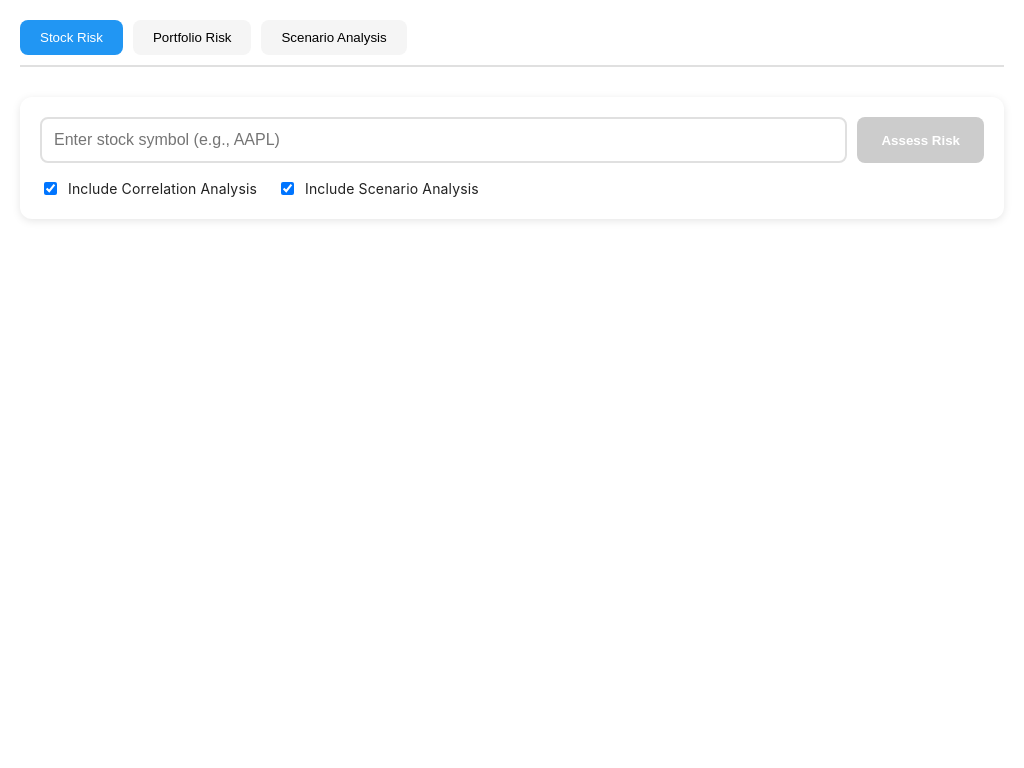
Scenario: RiskAssessment Component › Portfolio Risk Assessment Mode › should perform portfolio risk assessment
The width and height of the screenshot is (1024, 768).
Click the button "Portfolio Risk".
click(192, 38)  # box [133,20,252,55]
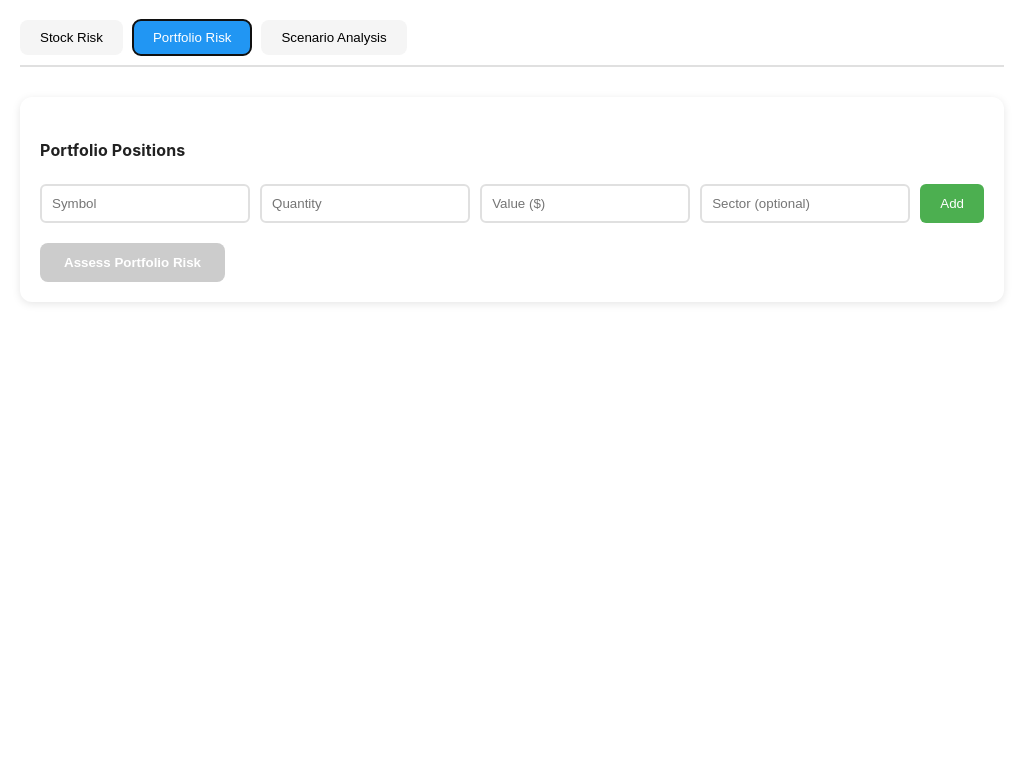
Note: Add positions
Type "AAPL" into the field with placeholder "Symbol".
click(145, 203); type("AAPL")  # box [40,184,250,222]
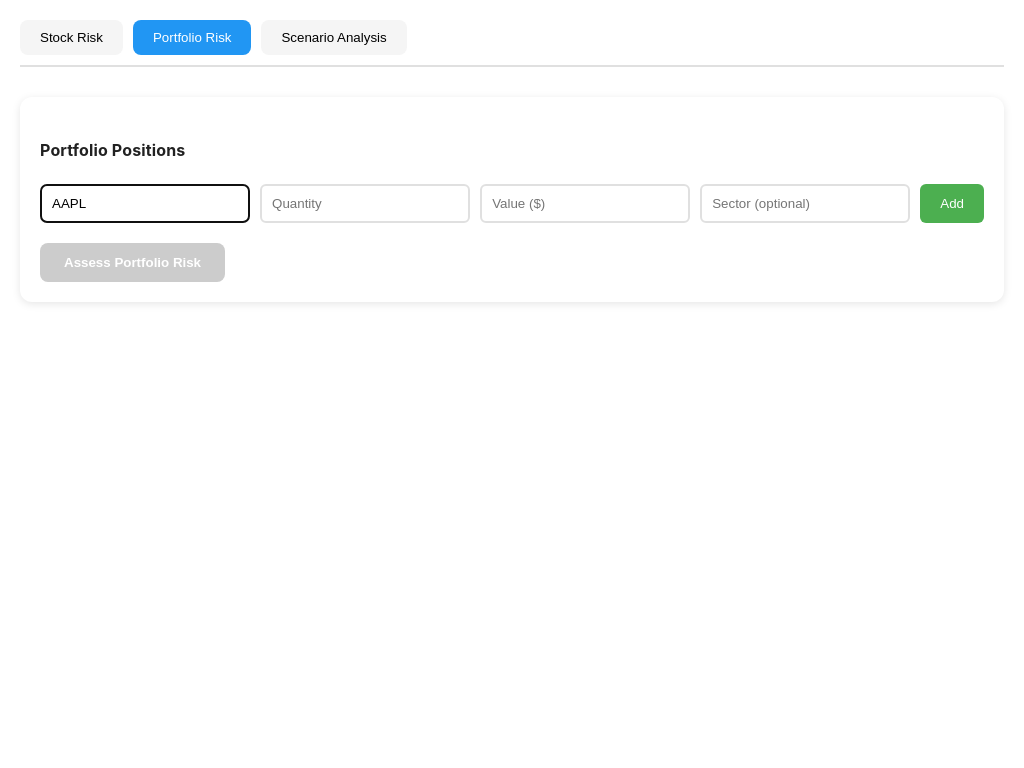
Type "100" into the number field with placeholder "Quantity".
click(365, 203); type("100")  # box [260,184,470,222]
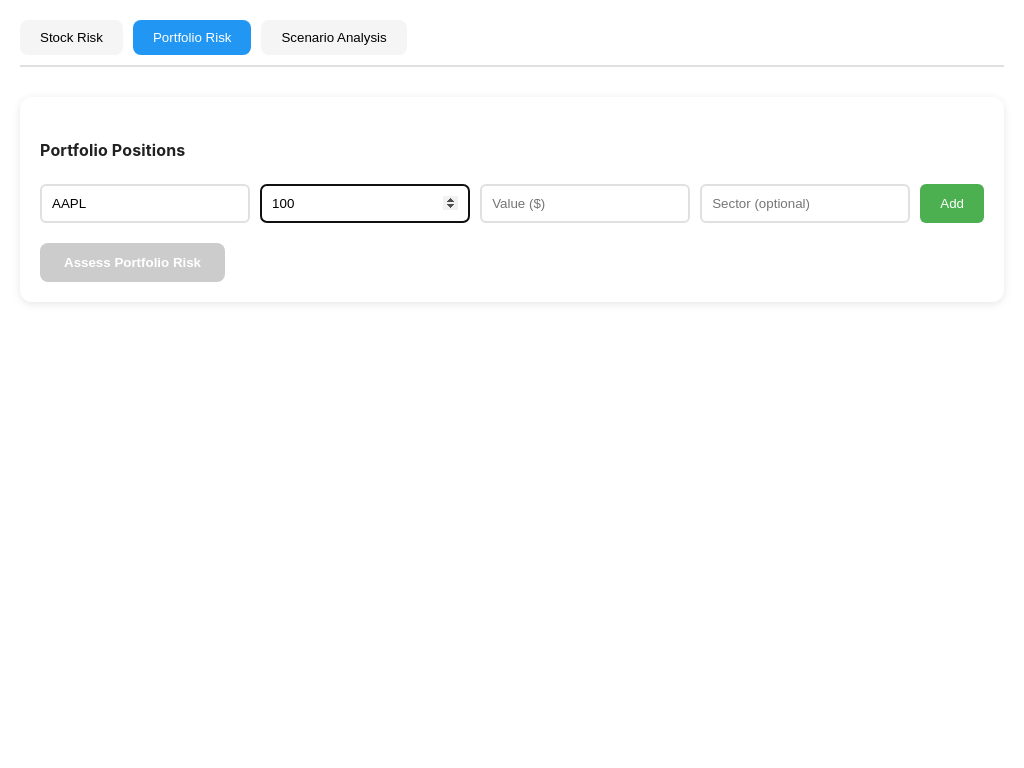
Type "15000" into the number field with placeholder "Value ($)".
click(585, 203); type("15000")  # box [480,184,690,222]
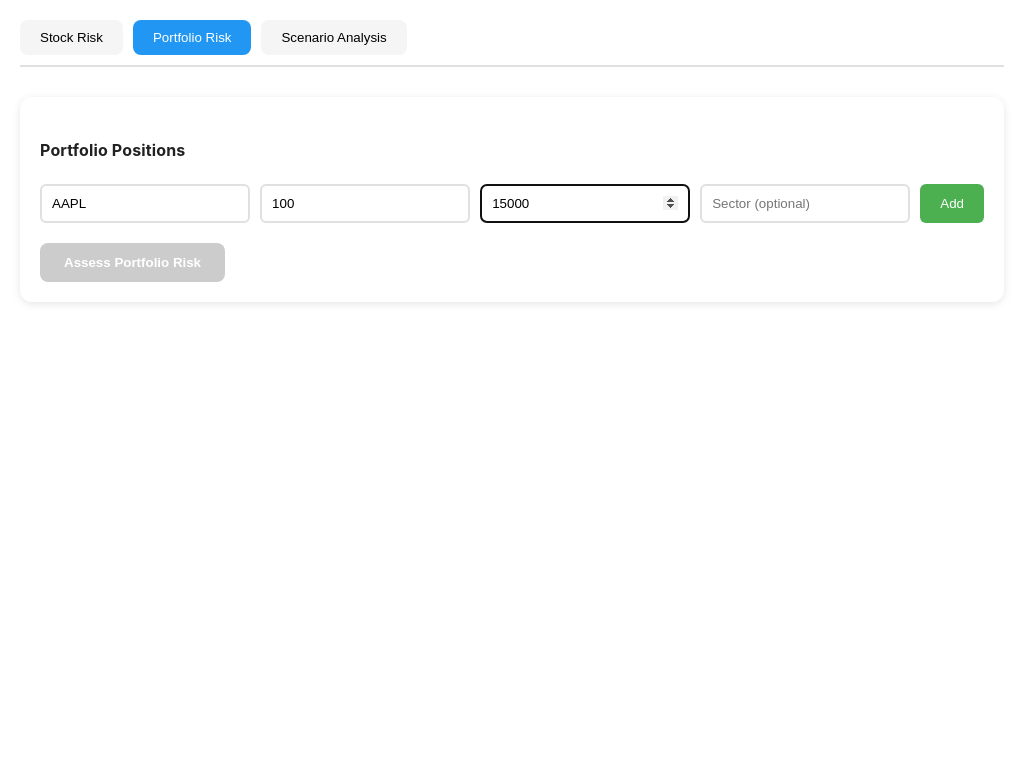
Click the button "Add".
click(952, 203)  # box [920,184,984,222]
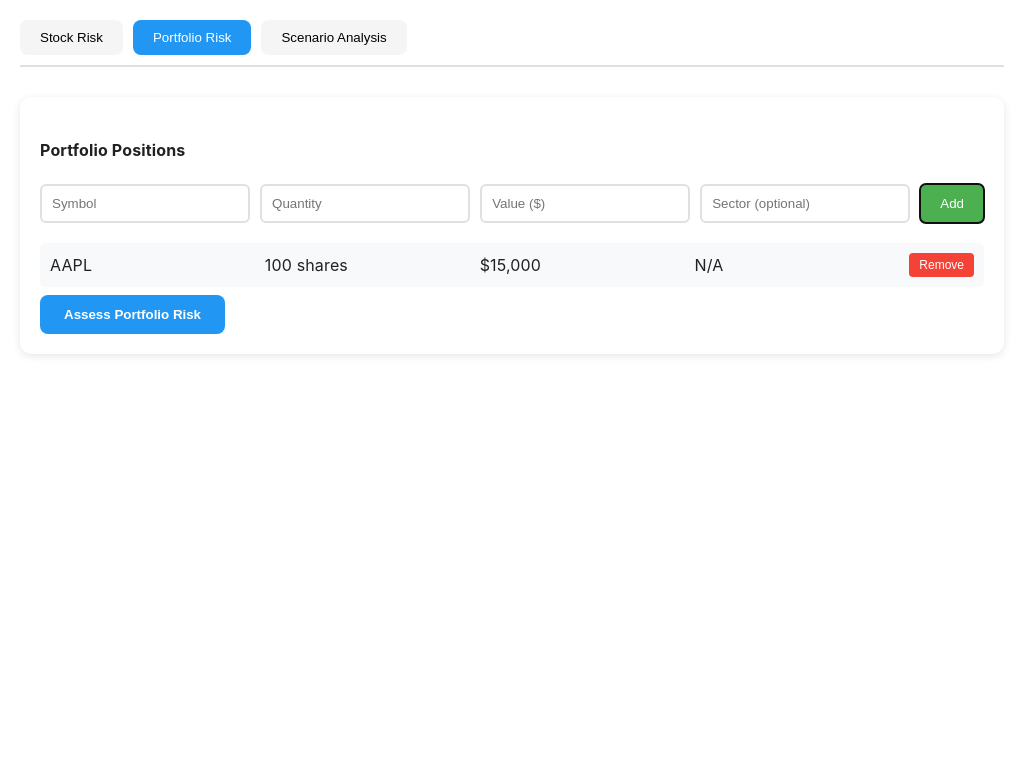
Note: Assess portfolio
Click the button "Assess Portfolio Risk".
click(132, 314)  # box [40,294,225,334]
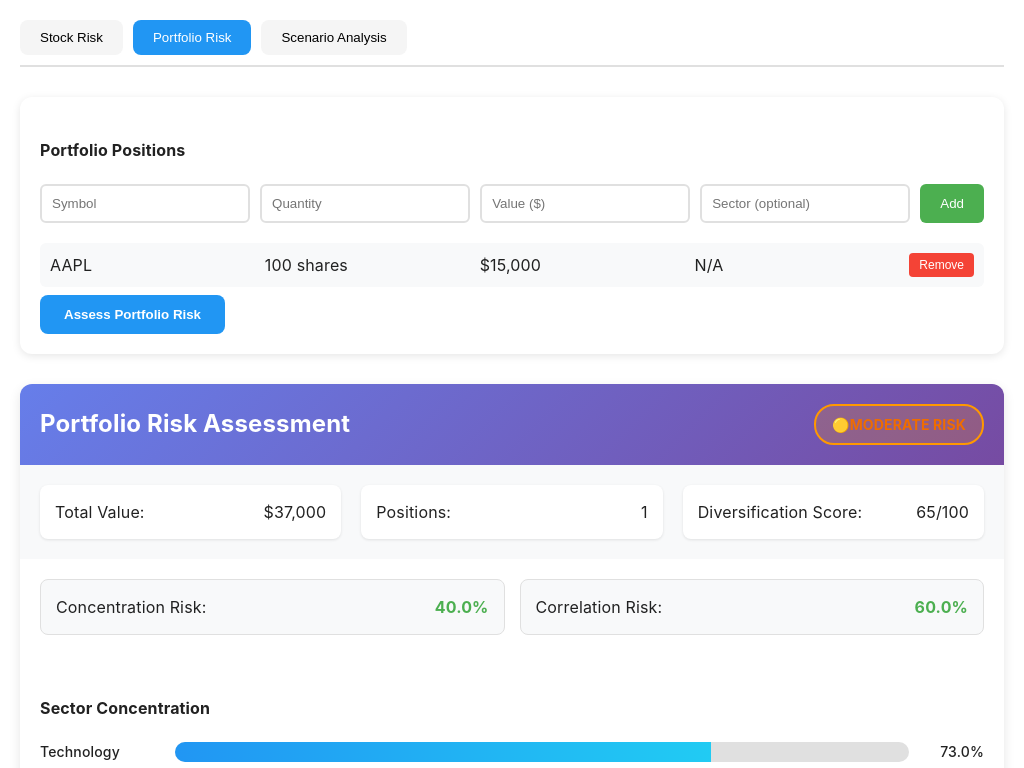
expect the heading "Portfolio Risk Assessment" is shown: met, box [40,406,350,442]
expect the text "$37,000" is shown: met, box [264,500,326,524]
expect the text "65/100" is shown: met, box [916,500,969,524]
